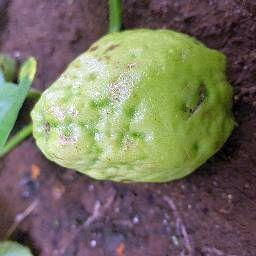guava: (28, 27, 238, 185)
